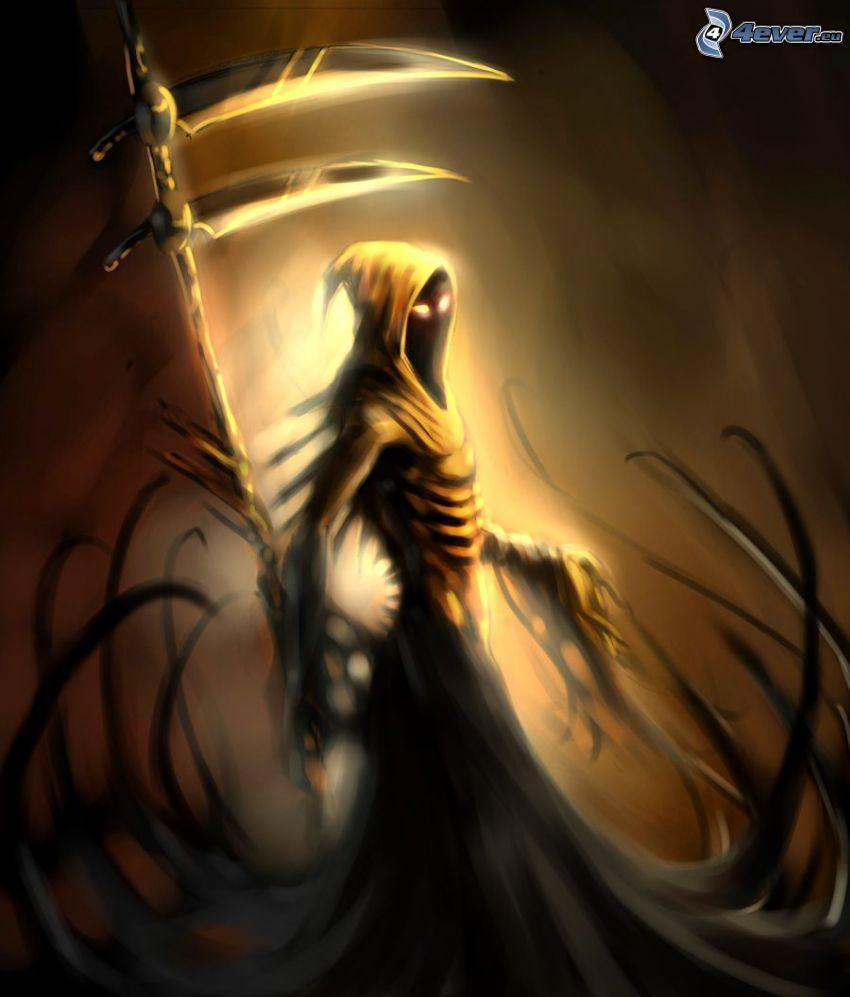foice: (103, 0, 462, 374)
